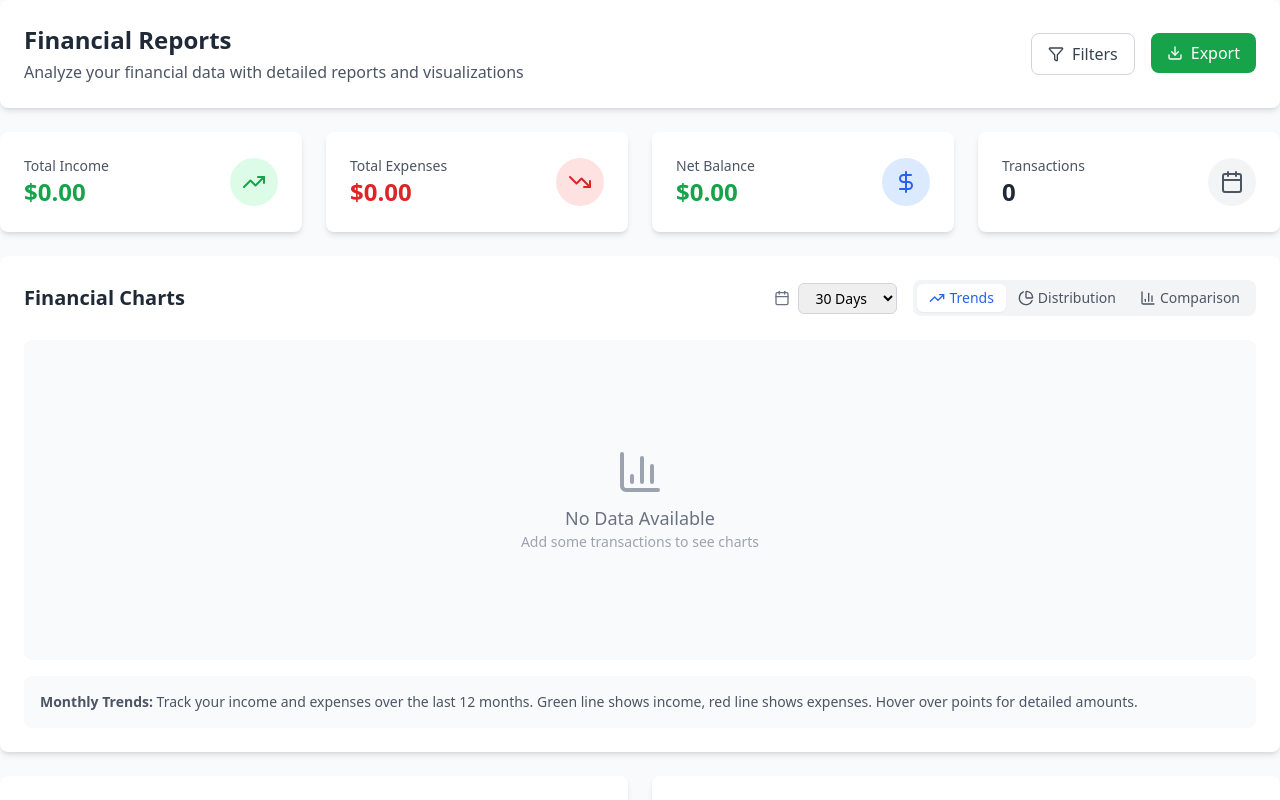
ReportsDashboard › should handle category filter changes
This screenshot has width=1280, height=800.
// Open filters
Click the button "Filters". click: (1083, 54)
box: [1031,33,1135,75]
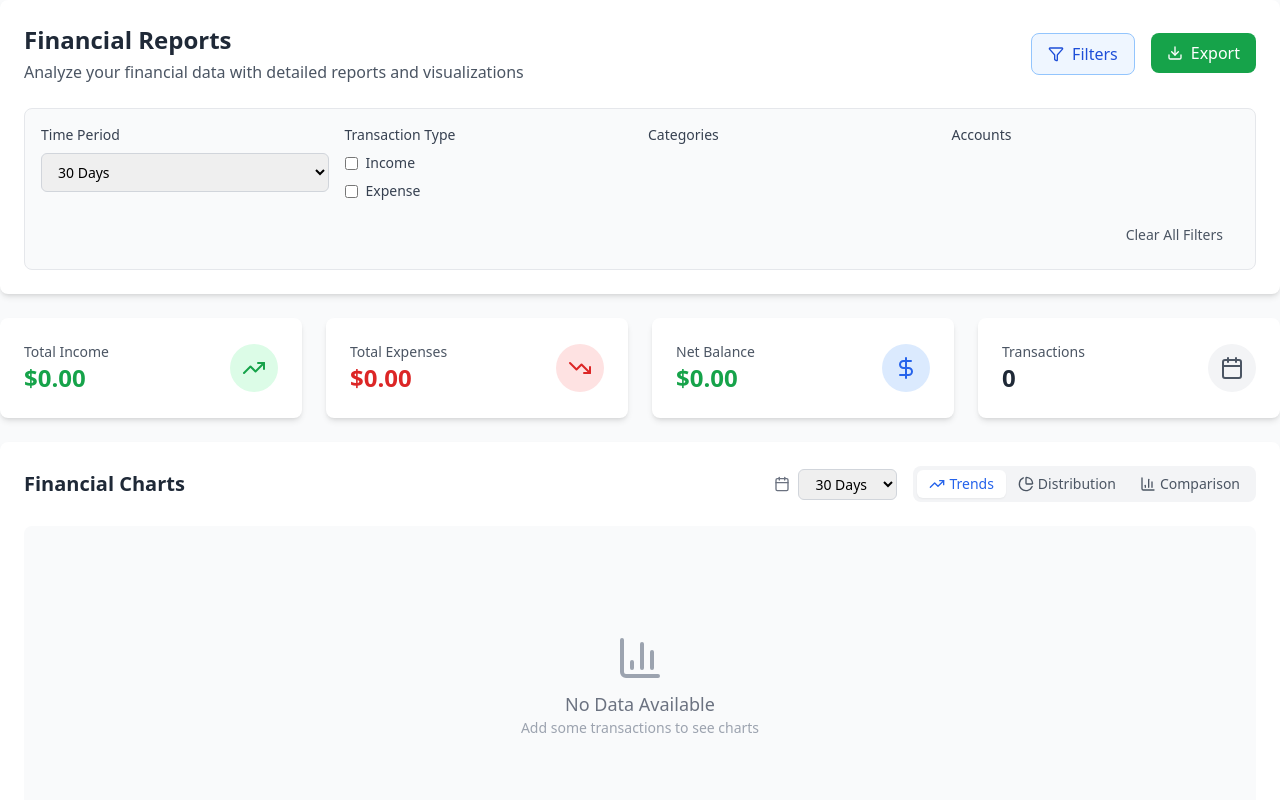
Check: the text "Categories" is shown, box [648,125,719,144]
